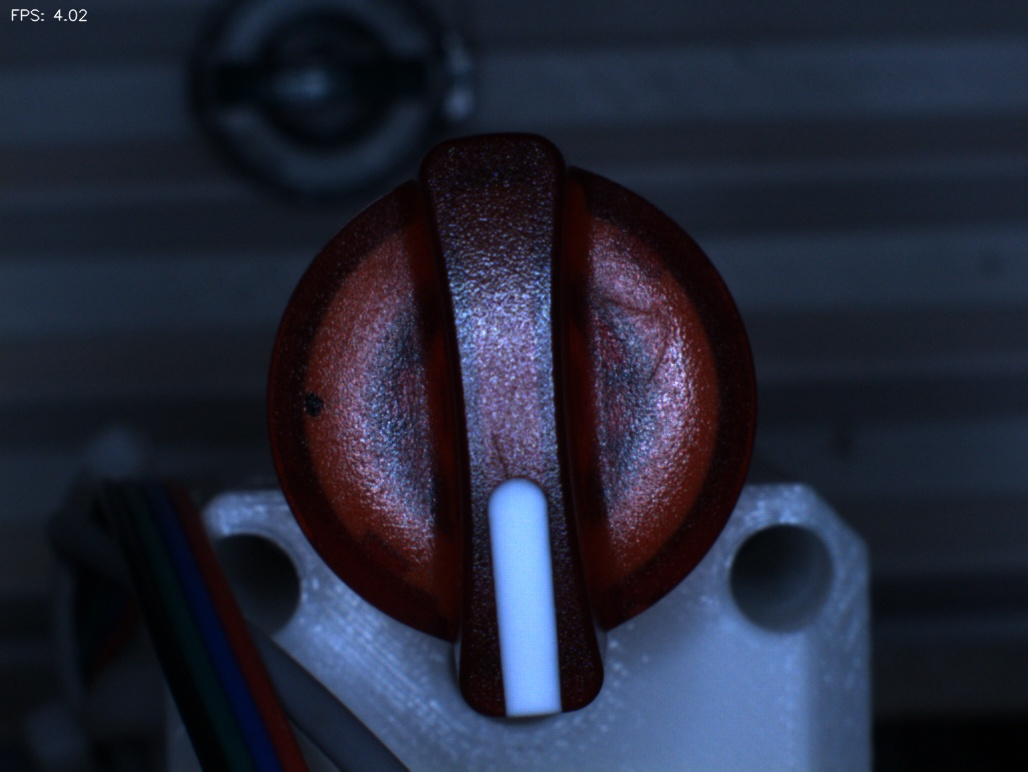PointNoir: (274, 369, 359, 444)
